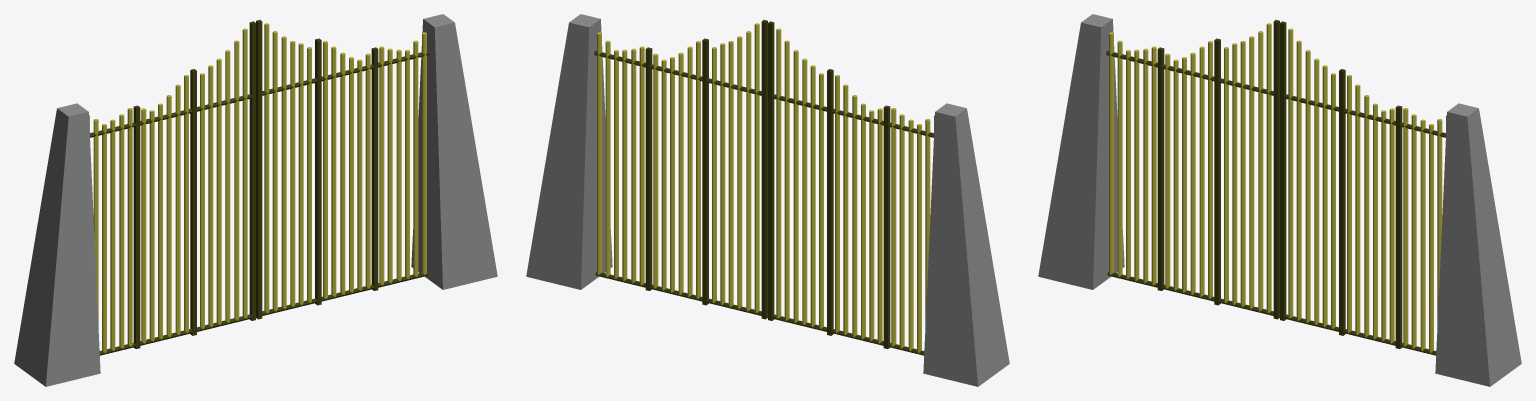
File: Gates.fbx
The picture shows the model from 3 angles, left to right: view 1: azimuth 30°, elevation 25°; view 2: azimuth 150°, elevation 25°; view 3: azimuth 330°, elevation 25°; orthographic projection.
Visible parts, largest first — view 1: gate_main3.071, gate_main3.049, gate_pillars.002, gate_pillars.003; view 2: gate_main3.071, gate_main3.049, gate_pillars.002, gate_pillars.003; view 3: gate_main3.049, gate_main3.071, gate_pillars.003, gate_pillars.002.
Boxes of the visible parts, x1,y1,x2,y2 form: gate_main3.071: (256,20,429,319); gate_main3.049: (89,21,255,355); gate_pillars.002: (14,103,100,386); gate_pillars.003: (411,14,497,289); gate_main3.071: (594,20,767,319); gate_main3.049: (768,21,934,355); gate_pillars.002: (923,103,1009,386); gate_pillars.003: (526,14,612,289); gate_main3.049: (1106,20,1279,319); gate_main3.071: (1280,21,1446,355); gate_pillars.003: (1435,103,1521,386); gate_pillars.002: (1038,14,1124,289).
Bounding box in the file's own units: 1237 × 781 × 150.
